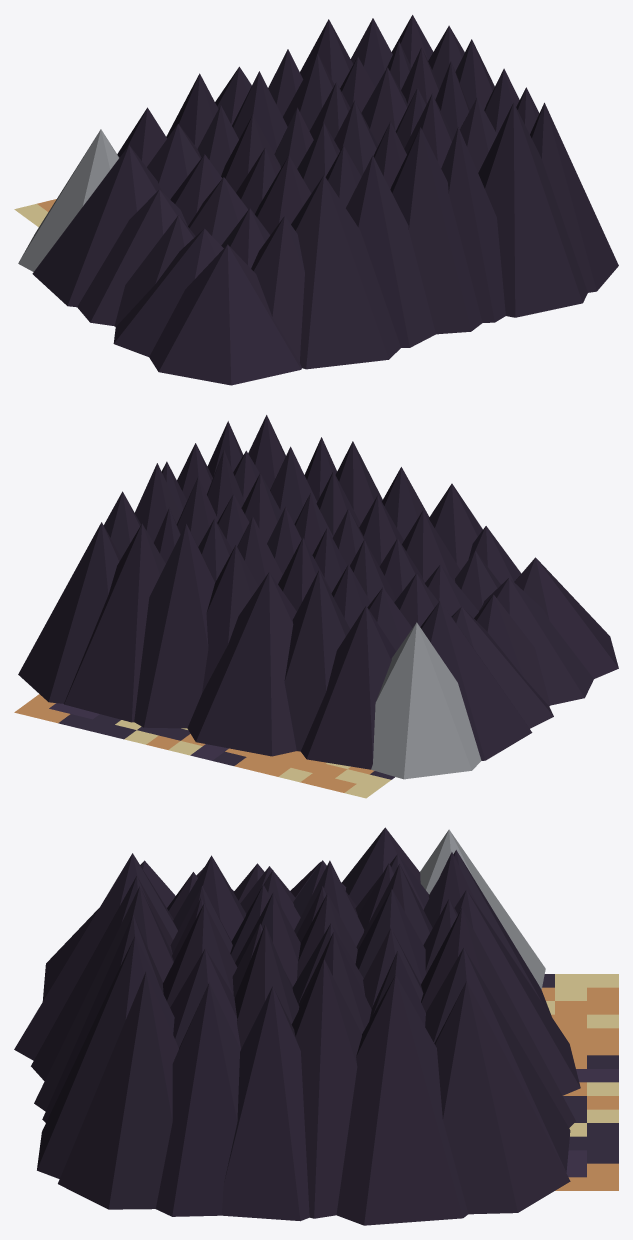
The model's file is chunk_9_23.glb.
3 renders of one model, top to bottom at view 1: azimuth 30°, elevation 25°; view 2: azimuth 150°, elevation 25°; view 3: azimuth 270°, elevation 25°, orthographic. The views are drawn at different scales.
Visible parts, largest first — view 1: chunk_9_23; view 2: chunk_9_23; view 3: chunk_9_23.
Boxes of the visible parts, box(x1,y1,x2,y2) form: chunk_9_23: box(14, 15, 618, 385); chunk_9_23: box(14, 415, 618, 798); chunk_9_23: box(14, 827, 618, 1225).
Bounding box in the file's own units: 21.34 × 7.7 × 18.86.
